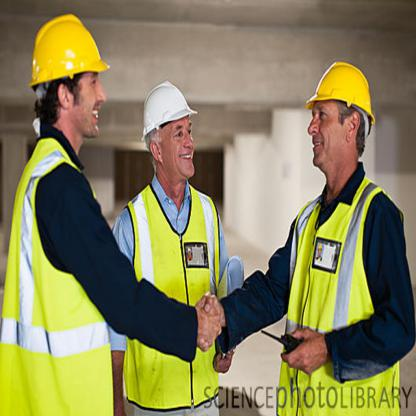face: (79, 38, 108, 140), (310, 82, 340, 167), (169, 104, 198, 180)
